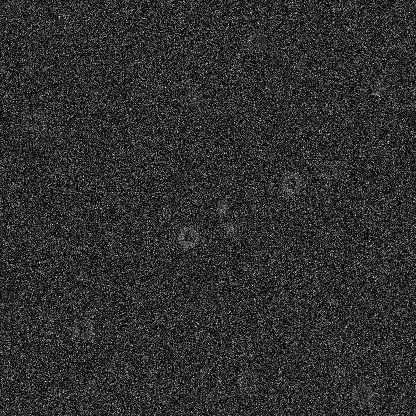Ring: (22, 108, 46, 132), (350, 382, 374, 406), (71, 317, 95, 341), (279, 171, 303, 195), (176, 224, 200, 248), (241, 30, 265, 54), (234, 367, 258, 391), (176, 299, 200, 323), (316, 158, 340, 182)
Spot: (290, 58, 306, 74), (371, 81, 387, 97), (228, 54, 244, 70), (215, 198, 231, 214), (222, 221, 238, 237), (84, 379, 100, 395), (187, 90, 203, 106), (201, 388, 217, 404)
